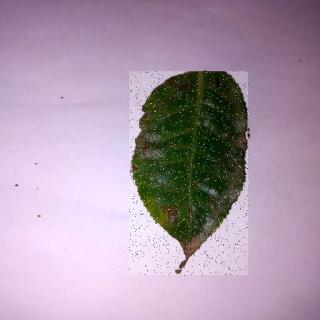Bird Eye Spot: (131, 73, 250, 277)
